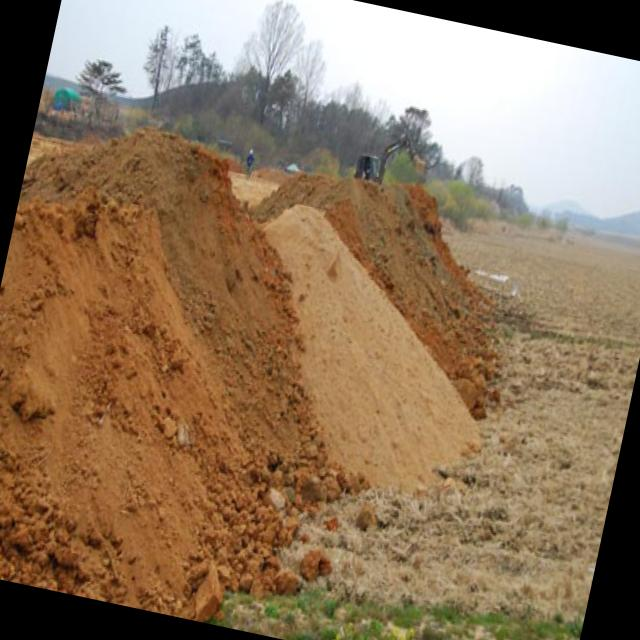red-sand: (0, 131, 500, 622)
white-sand: (305, 223, 640, 617)
